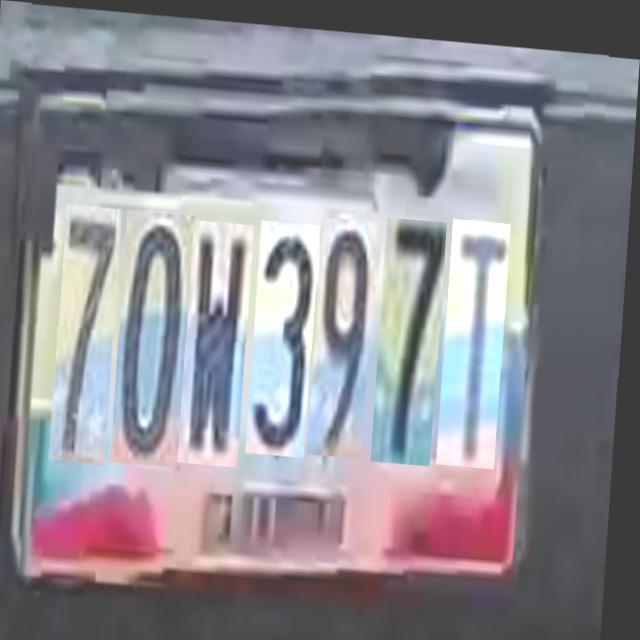3: (252, 215, 322, 452)
7: (56, 203, 125, 462), (378, 210, 450, 458)
9: (314, 212, 381, 452)
O: (117, 207, 197, 464)
T: (444, 210, 514, 460)
W: (184, 216, 257, 463)
